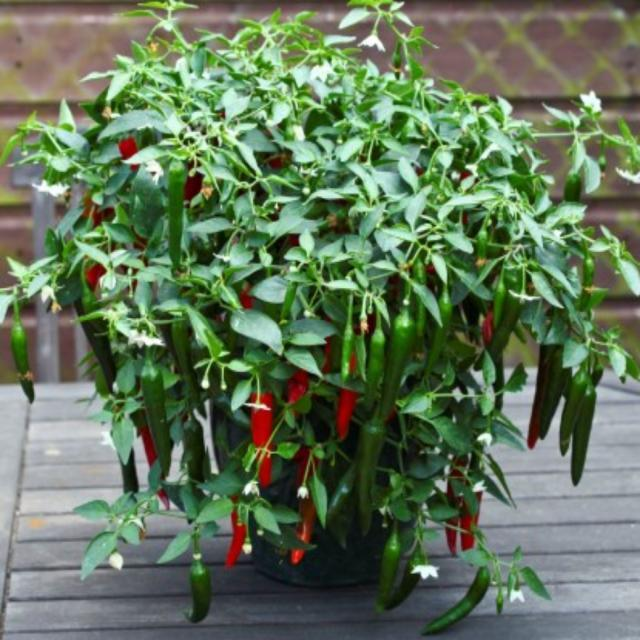plant: (0, 3, 640, 634)
